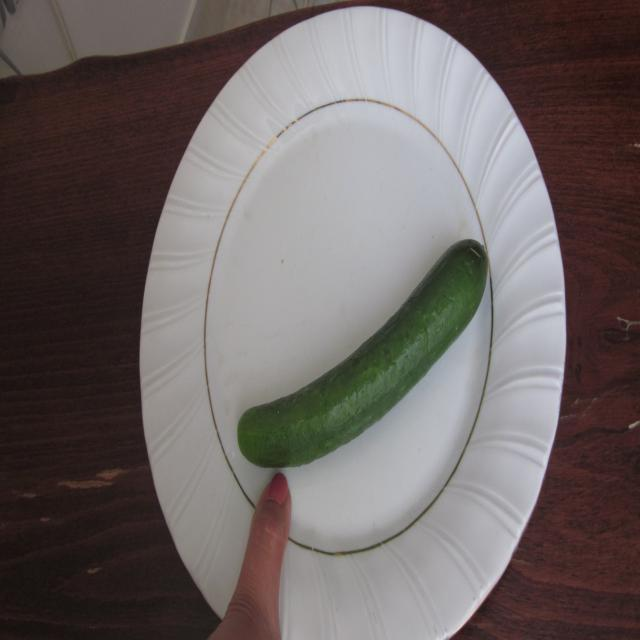Cucumber: (233, 227, 499, 477)
Finger: (232, 469, 298, 597)
